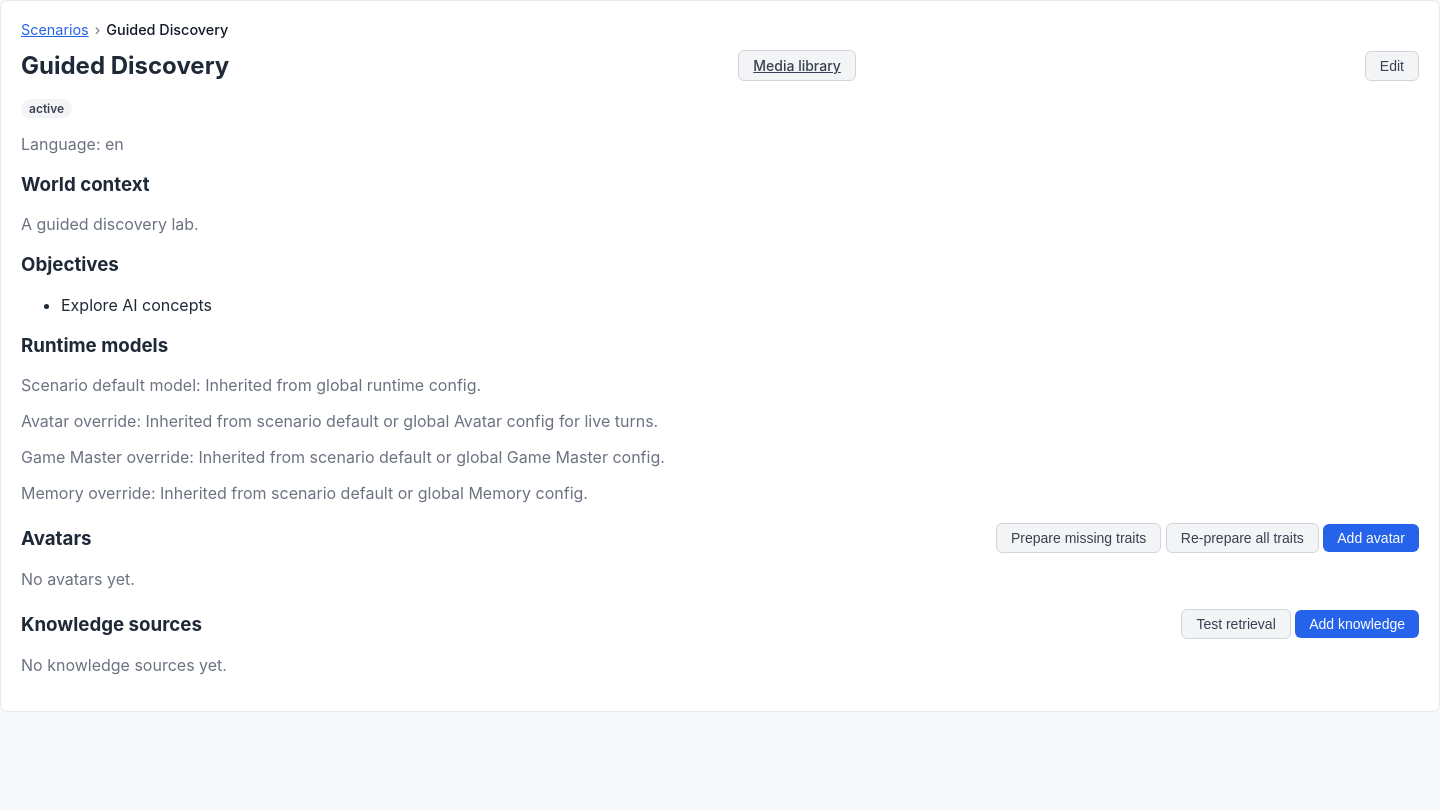
ScenarioDetailPage navigation and avatar actions › shows avatar create form when "Add avatar" is clicked
The width and height of the screenshot is (1440, 810).
Expected: the heading "Guided Discovery" is shown, [21, 51, 229, 80]
Click the button "Add avatar": (1371, 538) [1323, 524, 1419, 552]
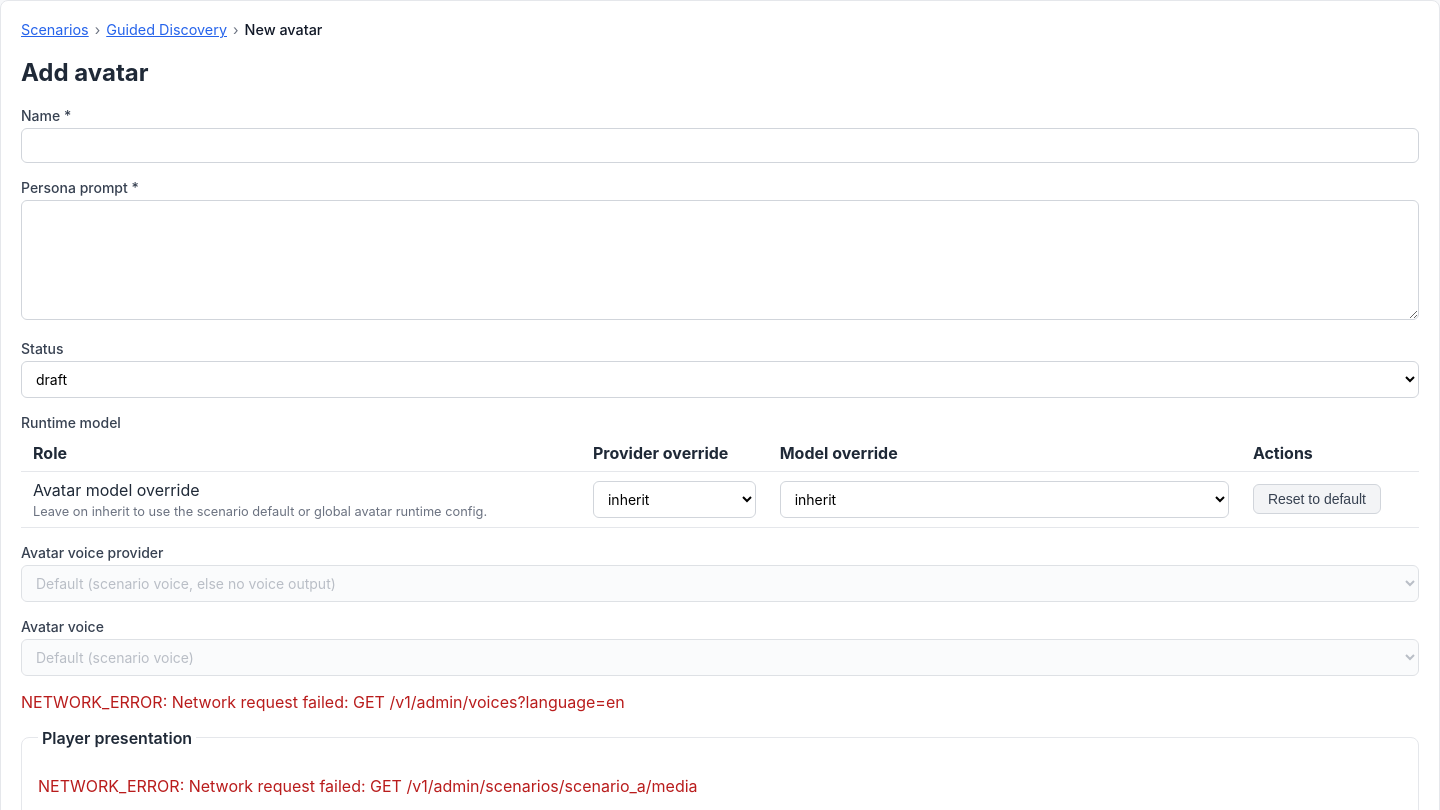
Expected: the heading "Add avatar" is shown, [21, 58, 148, 87]
Expected: the text box labelled "Persona prompt *" is shown, [21, 200, 1419, 320]
